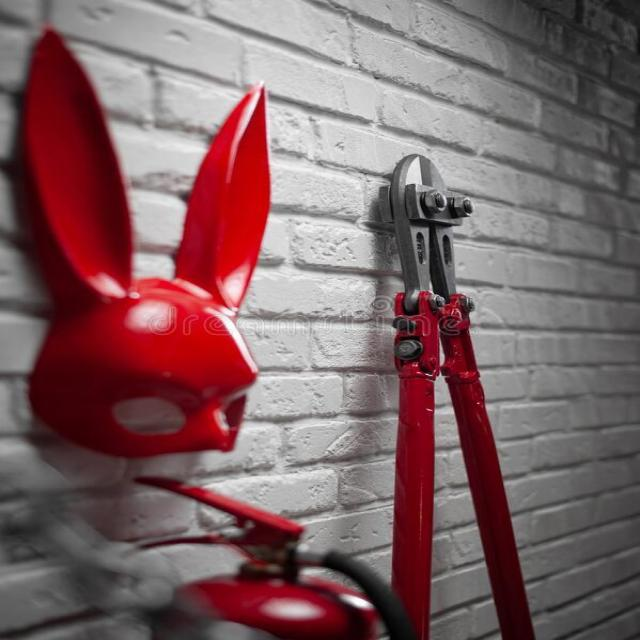fire_extinguisher: (127, 470, 426, 639)
